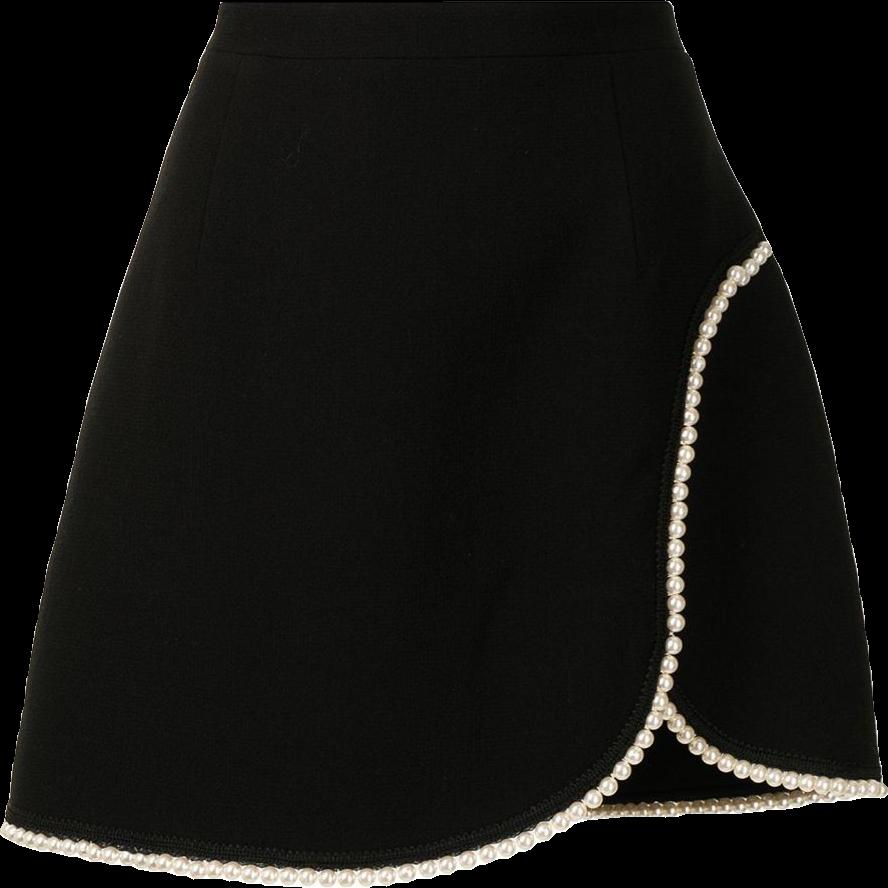Hemline: (0, 234, 765, 870), (656, 677, 885, 789)
Waistline: (202, 39, 688, 69), (213, 0, 670, 11)
